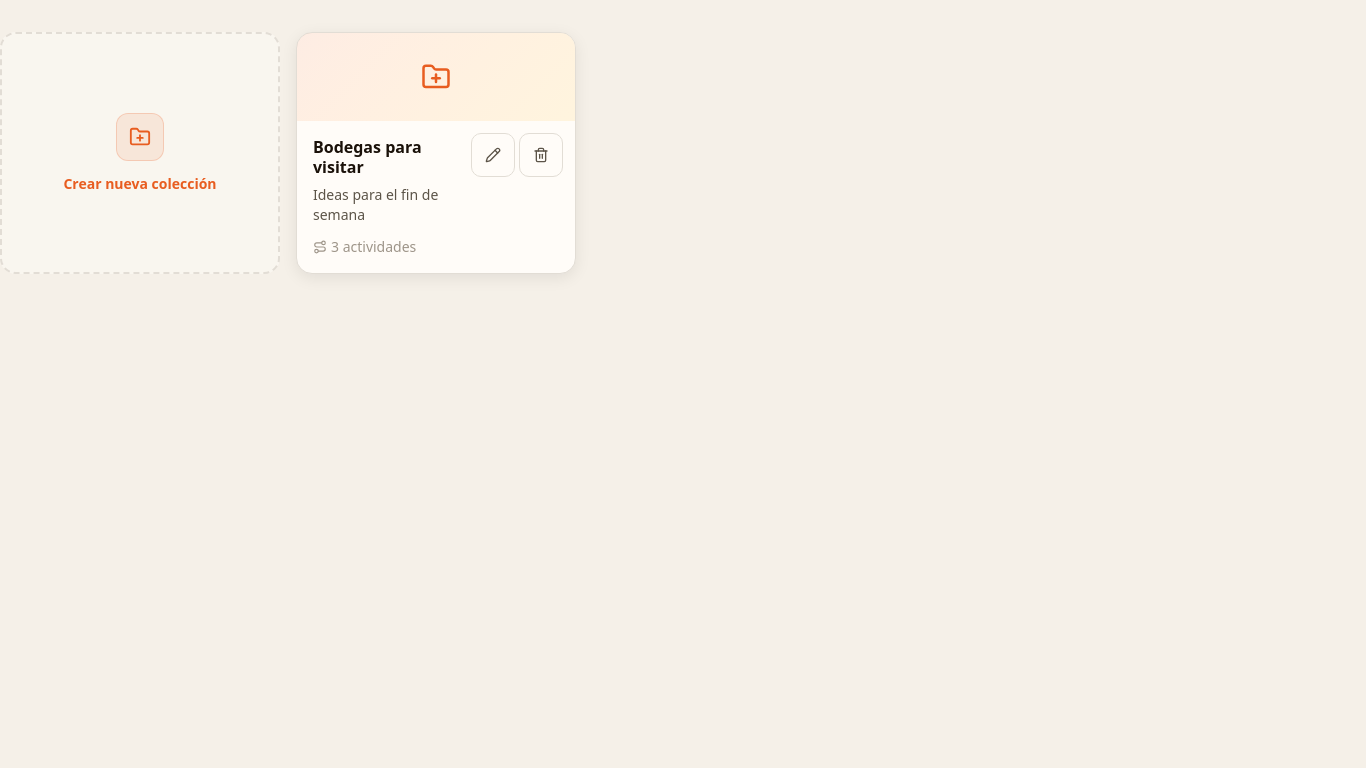
Test: CollectionsPanel › removes the card and confirms a successful deletion (CU34)
Click the button named "Eliminar Bodegas para visitar" at (541, 155), box [519,133,563,177]
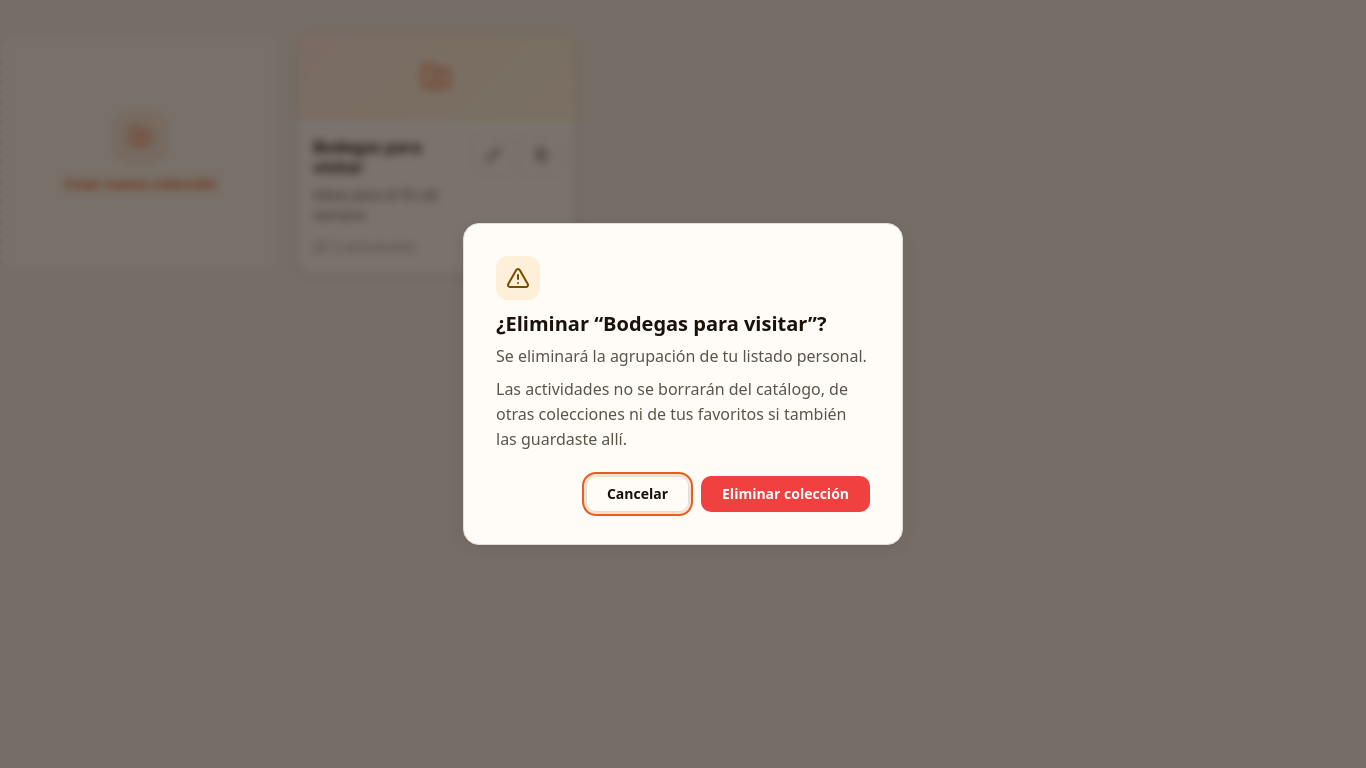
Click the button "Eliminar colección" at (786, 494), box [701,476,870,512]
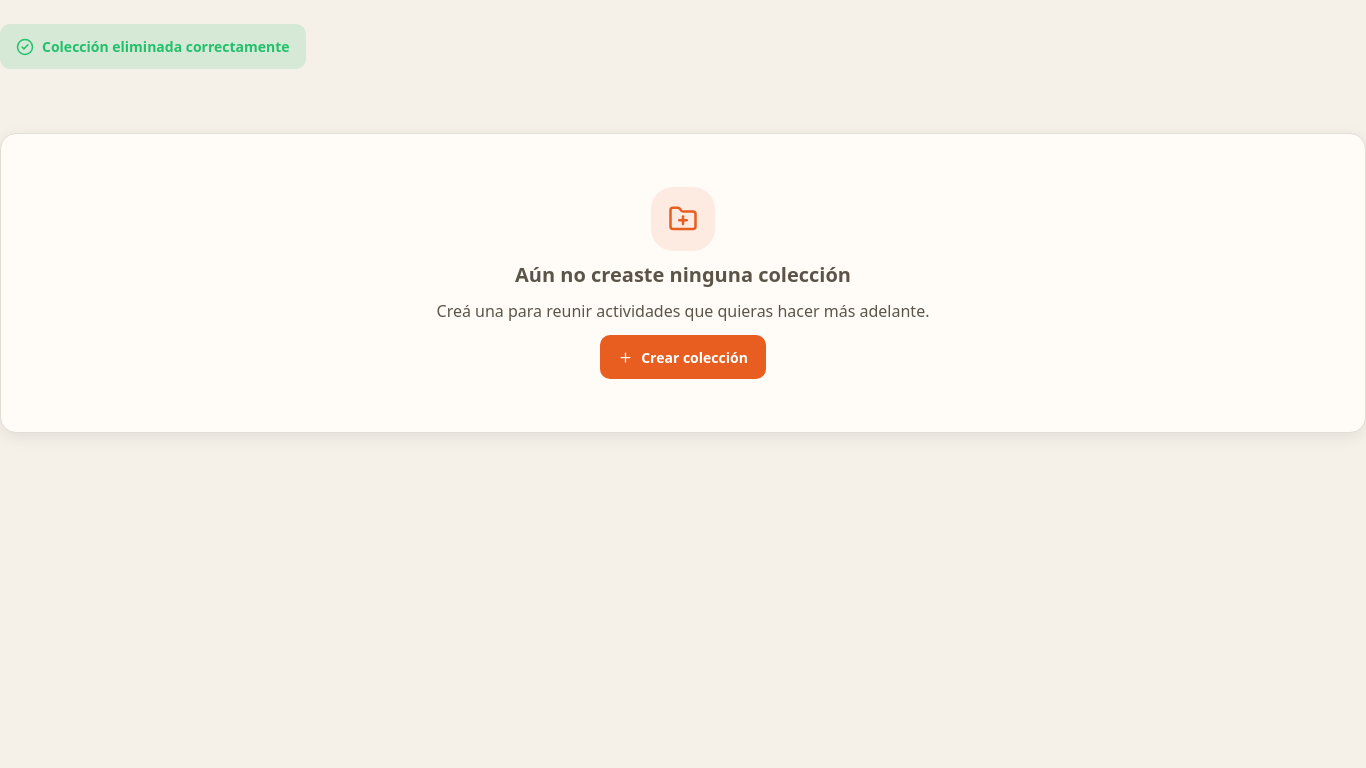
Result: the text "Colección eliminada correctamente" is shown at [0,24,306,69]
Result: the link "Bodegas para visitar" is gone
